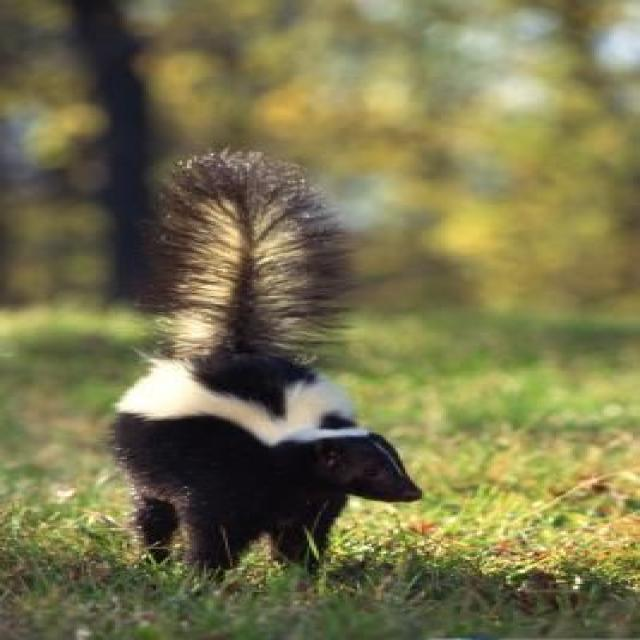Skunk: (71, 128, 442, 593)
